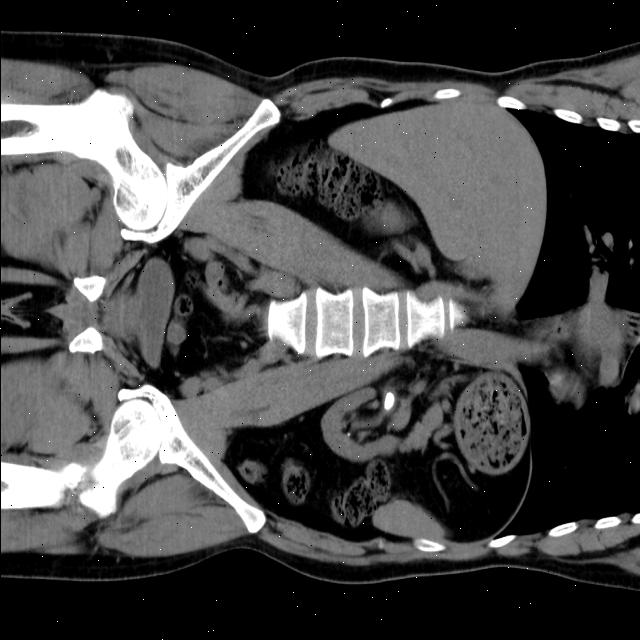kidneystone: (383, 391, 394, 411)
